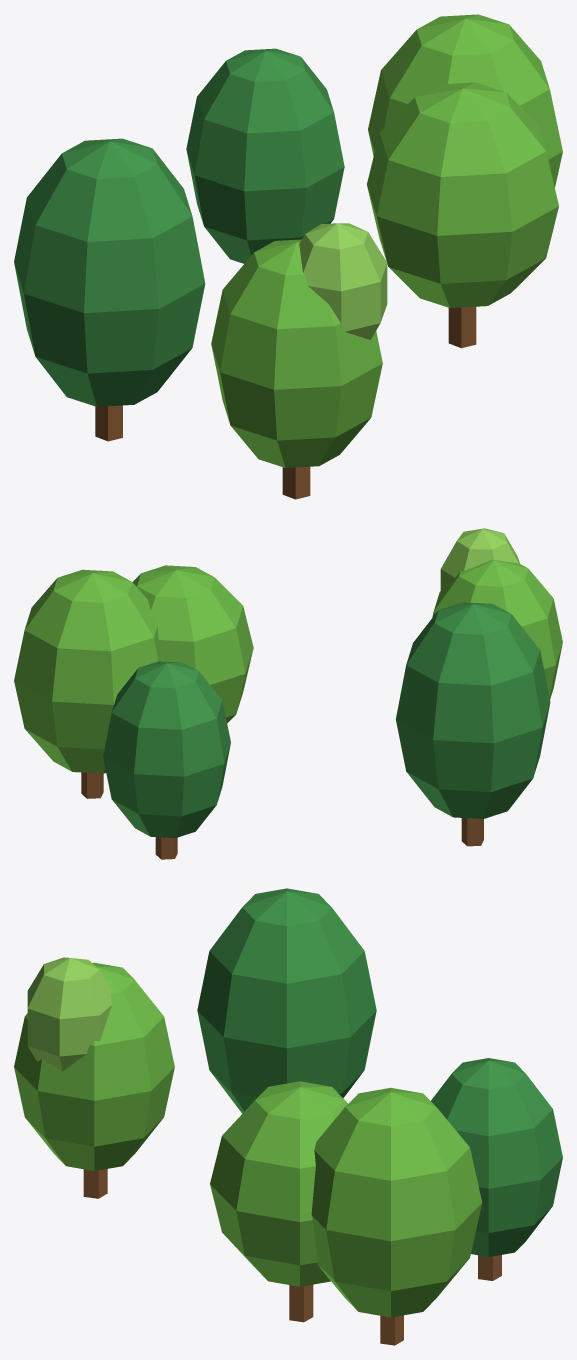
The model's file is Arboleda2.fbx.
3 renders of one model, top to bottom at view 1: azimuth 30°, elevation 25°; view 2: azimuth 150°, elevation 25°; view 3: azimuth 270°, elevation 25°, orthographic. The views are drawn at different scales.
Parts seen in each view (by area): view 1: Arboleda2; view 2: Arboleda2; view 3: Arboleda2.
Part boxes in pixels (x1,y1,x2,y2): Arboleda2: (14, 14, 562, 499); Arboleda2: (14, 528, 562, 859); Arboleda2: (14, 888, 562, 1345).
Size of the model in its own units: 32.6 by 15.63 by 29.19.
1 material, 1 textured.
